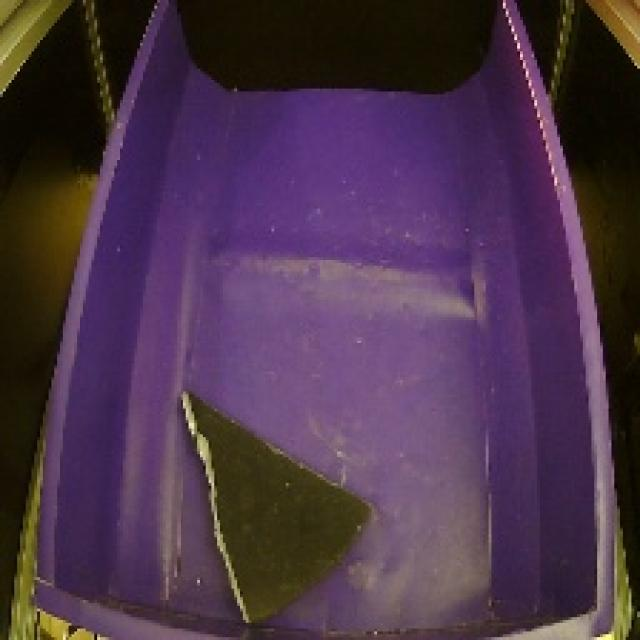china: (166, 380, 375, 634)
